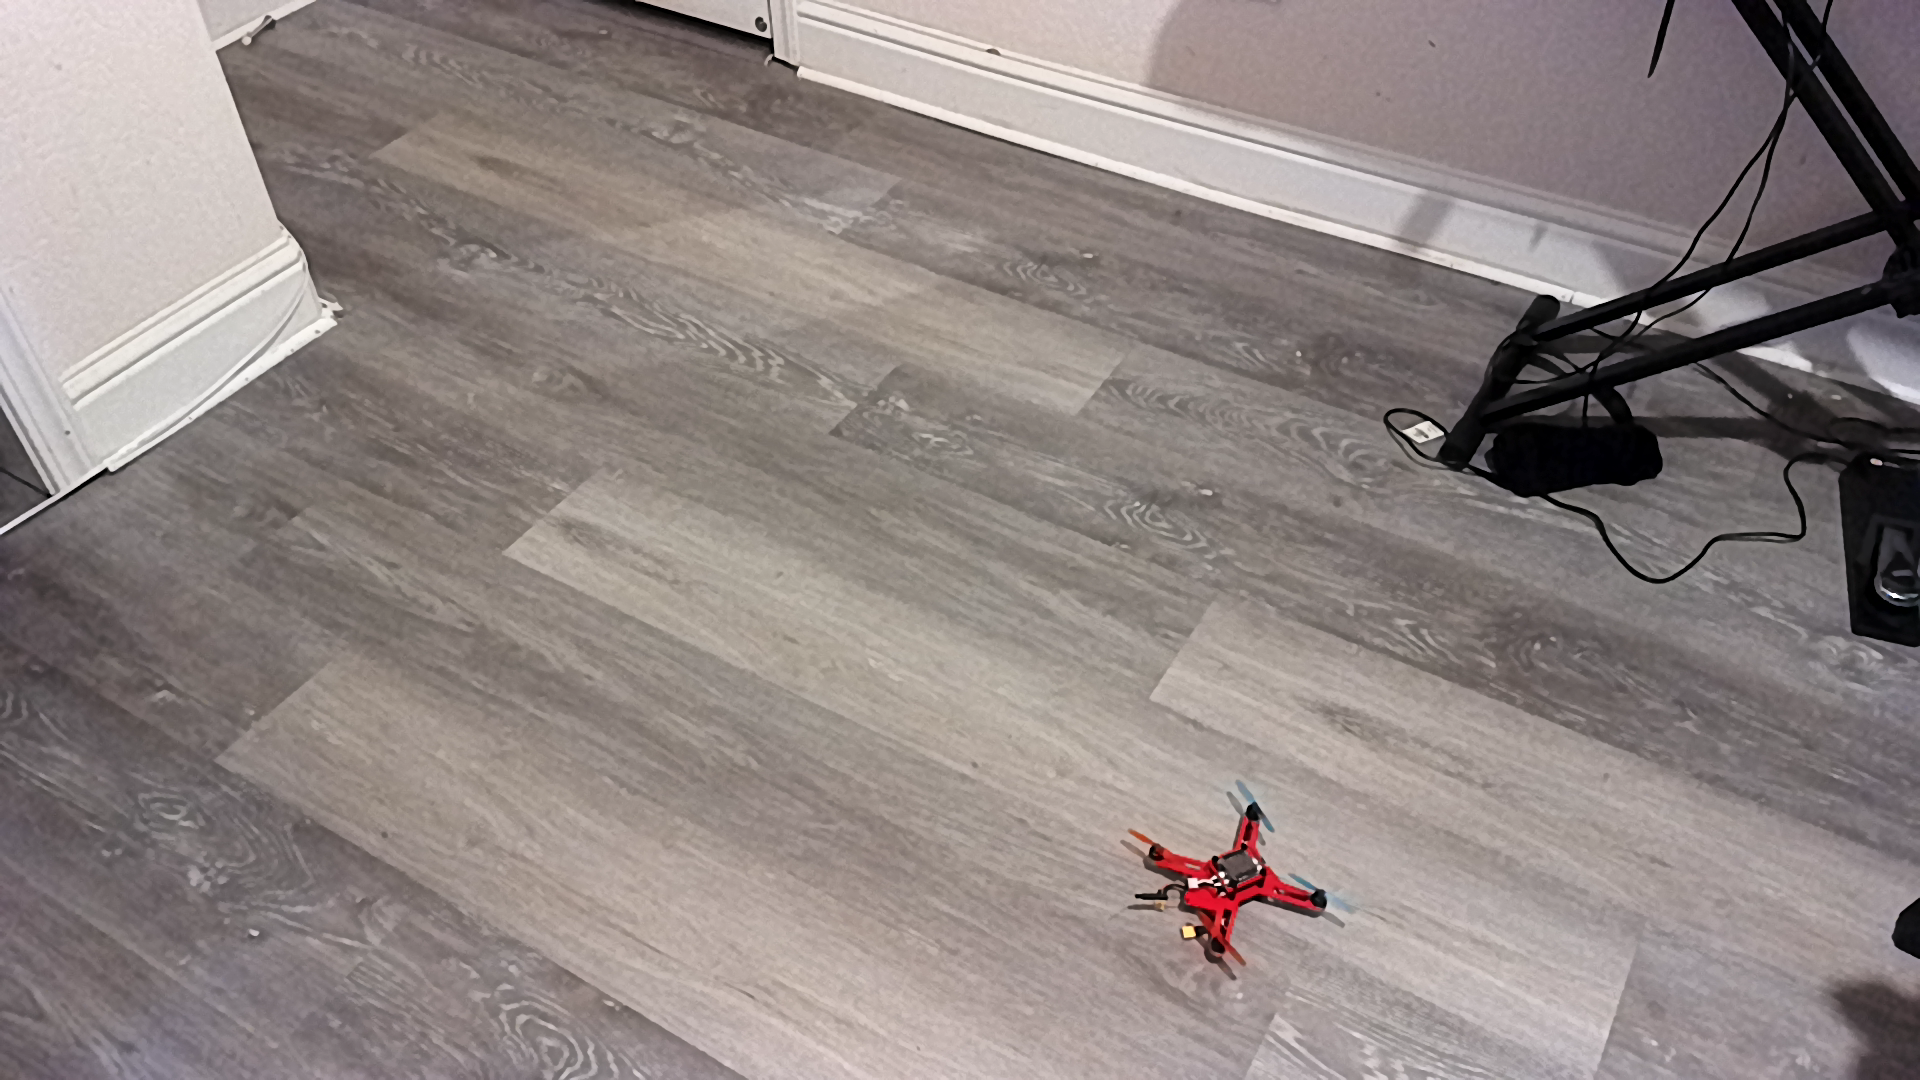drone: (1105, 777, 1377, 985)
